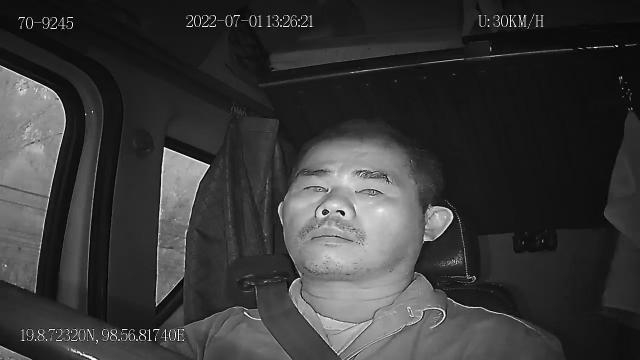SafeDriving: (346, 167, 396, 204), (344, 158, 398, 192), (293, 172, 333, 200)
Seatbelt: (250, 280, 346, 360)
